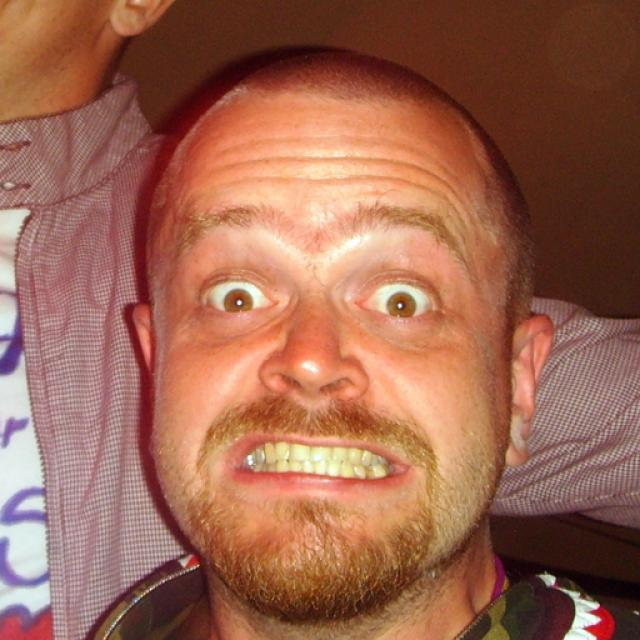surprise: (152, 82, 508, 618)
